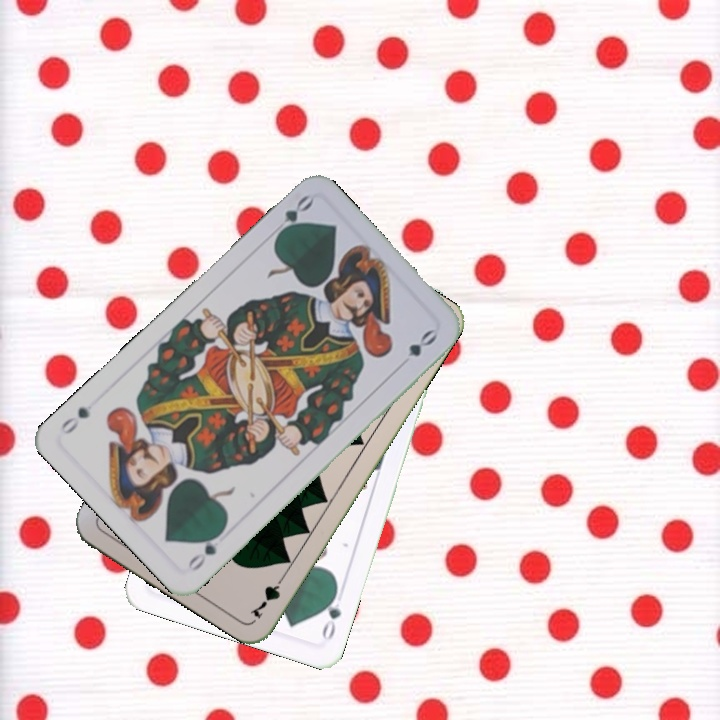G7: (247, 569, 290, 622)
GO: (266, 191, 316, 242), (183, 525, 227, 574), (317, 585, 344, 643)
